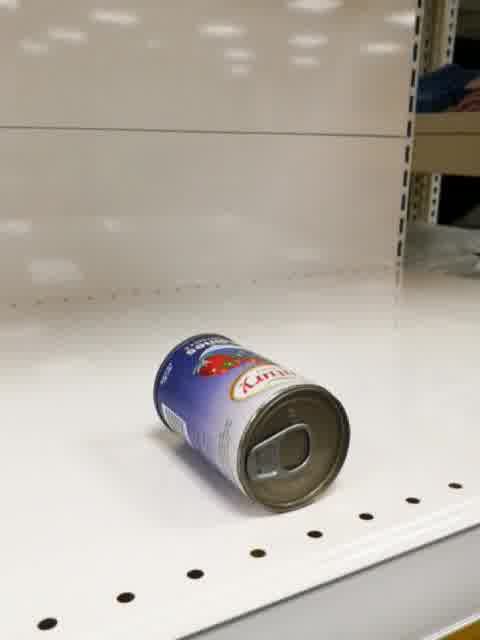sardine: (153, 333, 350, 514)
